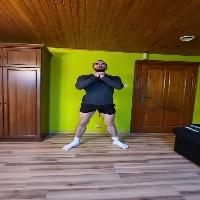squats: (61, 60, 135, 155)
